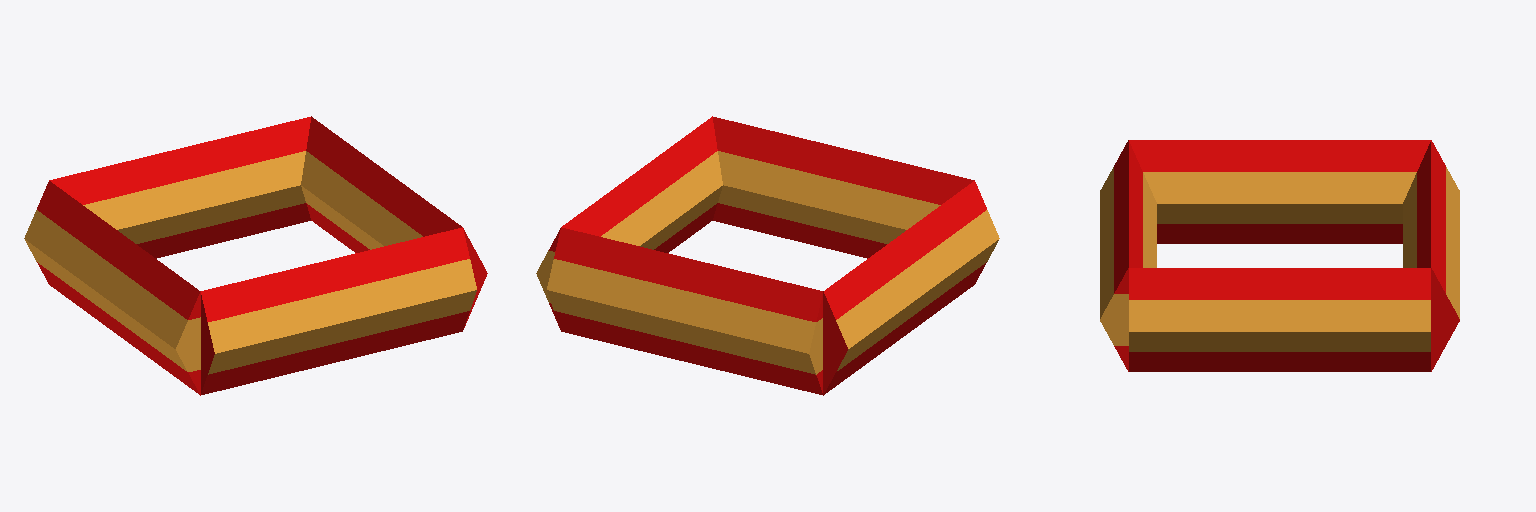
The model's file is tileSelector.obj.
3 views of the same model, side by side, from view 1: azimuth 30°, elevation 25°; view 2: azimuth 150°, elevation 25°; view 3: azimuth 270°, elevation 25° (orthographic).
Bounding box in the file's own units: 1.19 × 0.38 × 1.19.